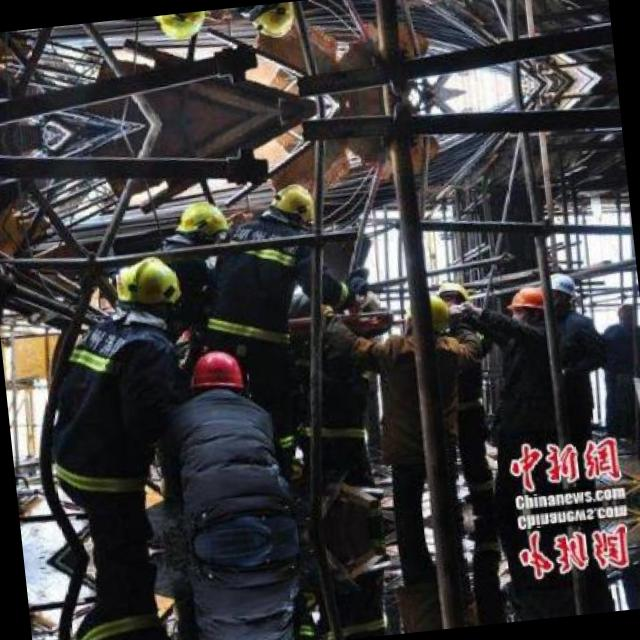helmet: (113, 248, 189, 322), (186, 346, 250, 409), (172, 198, 228, 250), (272, 184, 313, 232), (505, 284, 549, 328), (152, 11, 207, 44), (542, 269, 575, 315), (432, 278, 471, 316), (253, 1, 294, 37)
